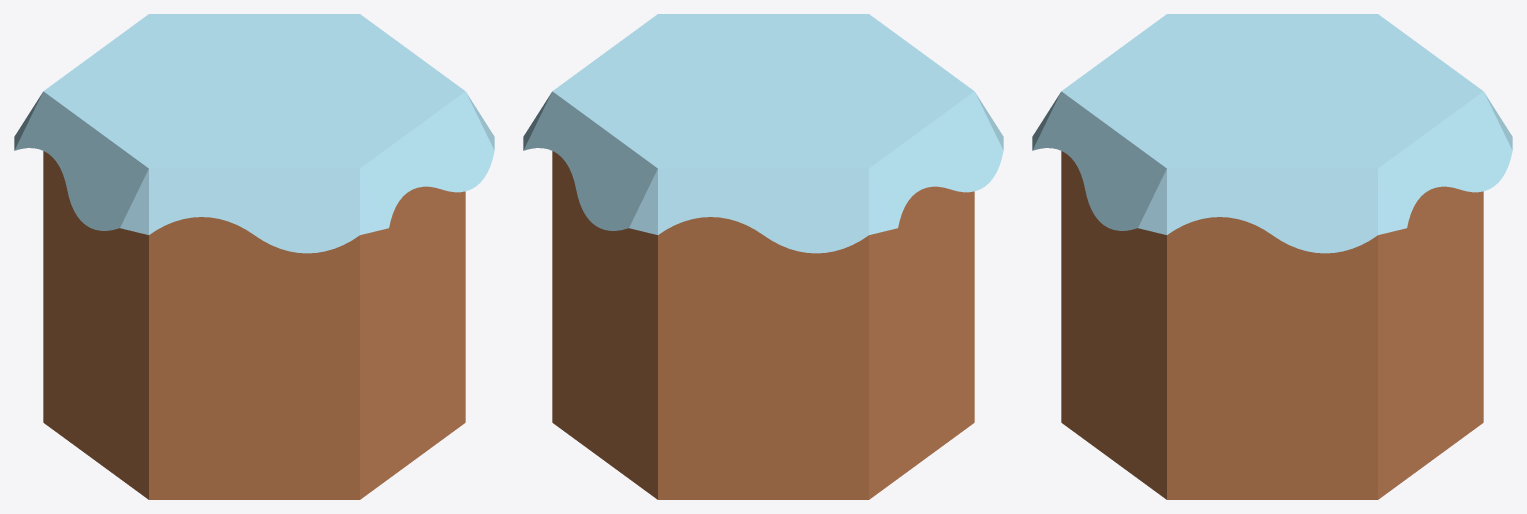
File: blockSnowHexagon.fbx
3 views of the same model, side by side, from view 1: azimuth 30°, elevation 25°; view 2: azimuth 150°, elevation 25°; view 3: azimuth 270°, elevation 25° (orthographic).
Visible parts, largest first — view 1: blockSnowHexagon; view 2: blockSnowHexagon; view 3: blockSnowHexagon.
Part boxes in pixels (box(x1,y1,x2,y2)): blockSnowHexagon: box(14, 14, 494, 499); blockSnowHexagon: box(523, 14, 1003, 499); blockSnowHexagon: box(1032, 14, 1512, 499).
Bounding box in the file's own units: 12.33 × 10 × 13.13.
